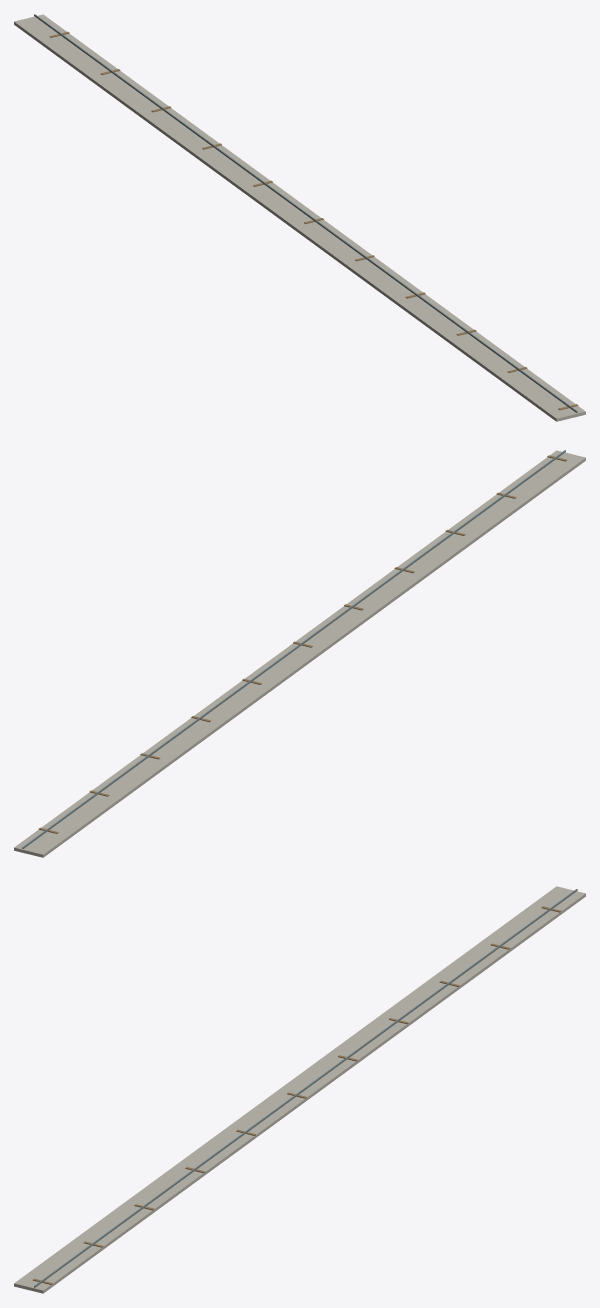
File: valley-7-1.glb
The picture shows the model from 3 angles, top to bottom: view 1: azimuth 30°, elevation 25°; view 2: azimuth 150°, elevation 25°; view 3: azimuth 330°, elevation 25°; orthographic projection.
Parts seen in each view (by area): view 1: valley-7-1; view 2: valley-7-1; view 3: valley-7-1.
Boxes of the visible parts, <box> form: valley-7-1: <box>14,14,585,421</box>; valley-7-1: <box>14,450,585,857</box>; valley-7-1: <box>14,886,585,1293</box>.
Size of the model in its own units: 4 by 0.7 by 128.
